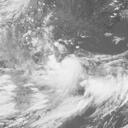cyclone: (45, 48, 94, 100)
